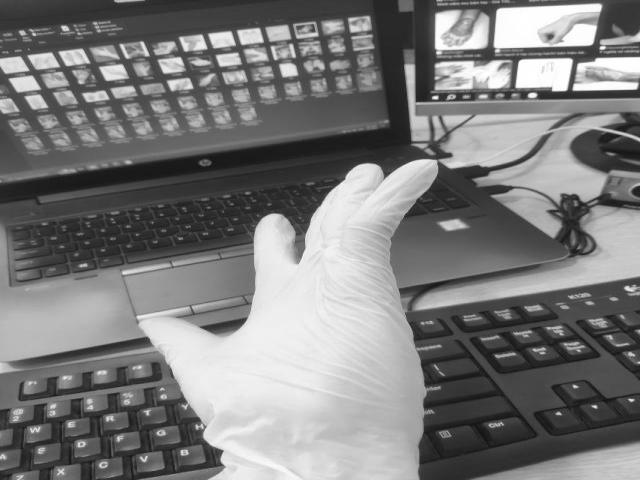gloved: (138, 159, 466, 480)
